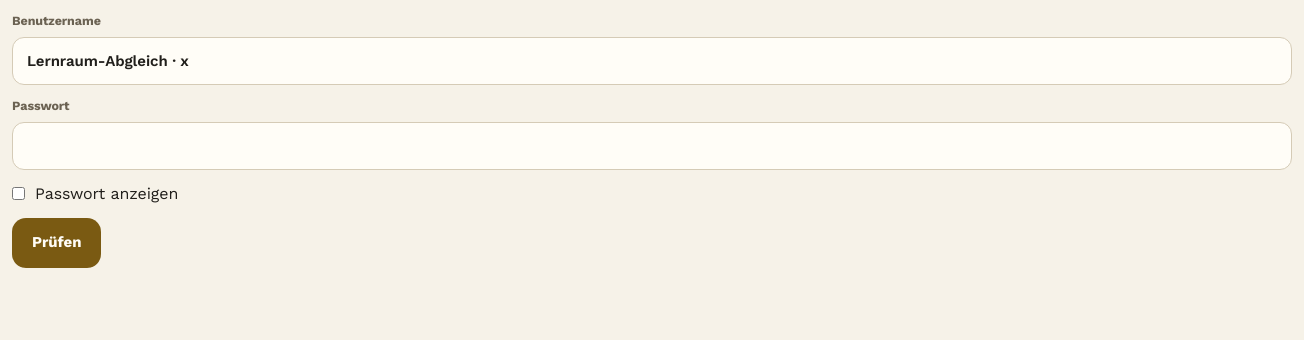
Test: SyncPasswordForm for password managers › keeps the form after a wrong password so none is saved by mistake
Type "falsch" into the password field labelled "Passwort" at (652, 146), box [12,122,1292,170]
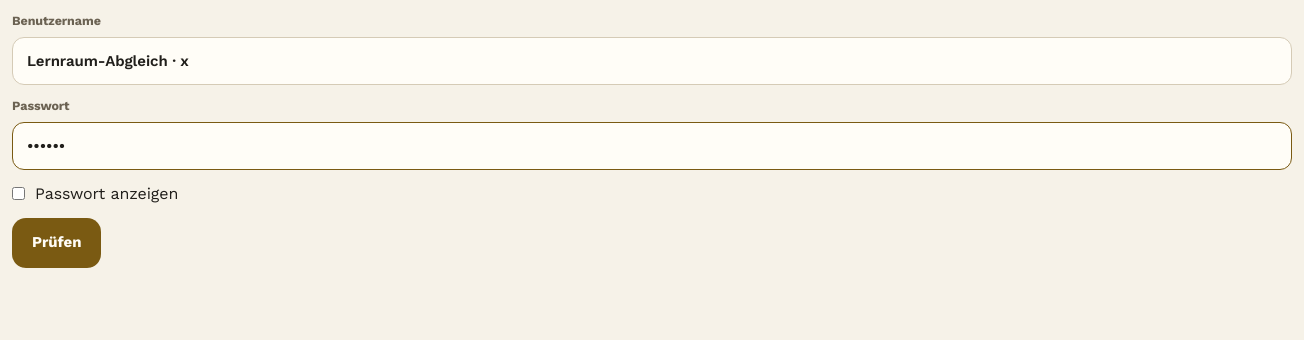
Click the button "Prüfen" at (57, 242), box [12,218,101,268]
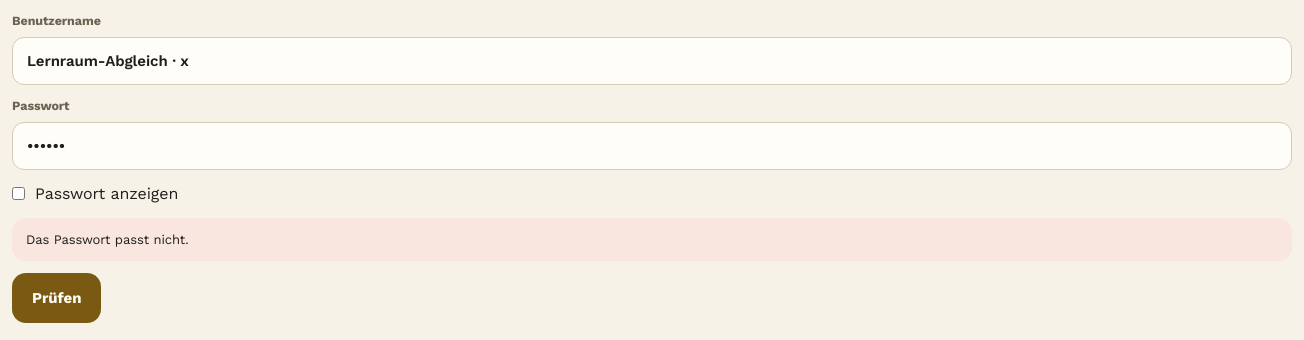
Result: the message shows "passt nicht" at [26,232,189,246]
